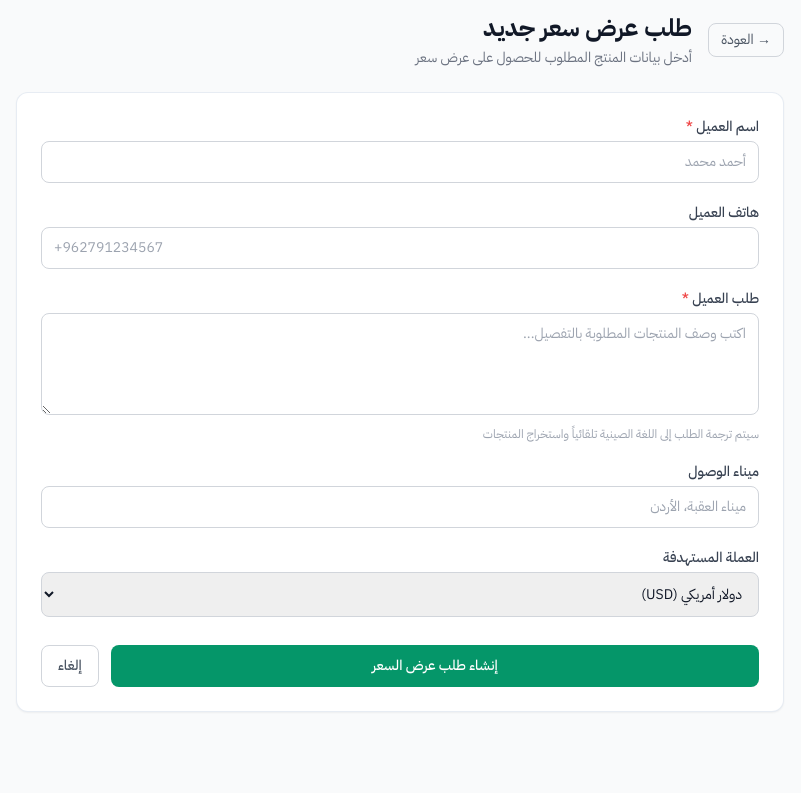
Test: RFQCreatePage › shows a validation error and does not submit when client name is empty
Type "أحتاج 100 كشاف إضاءة صناعي" into the text box with placeholder "اكتب وصف المنتجات المطلوبة بالتفصيل..." at (400, 364), box [41,313,759,415]
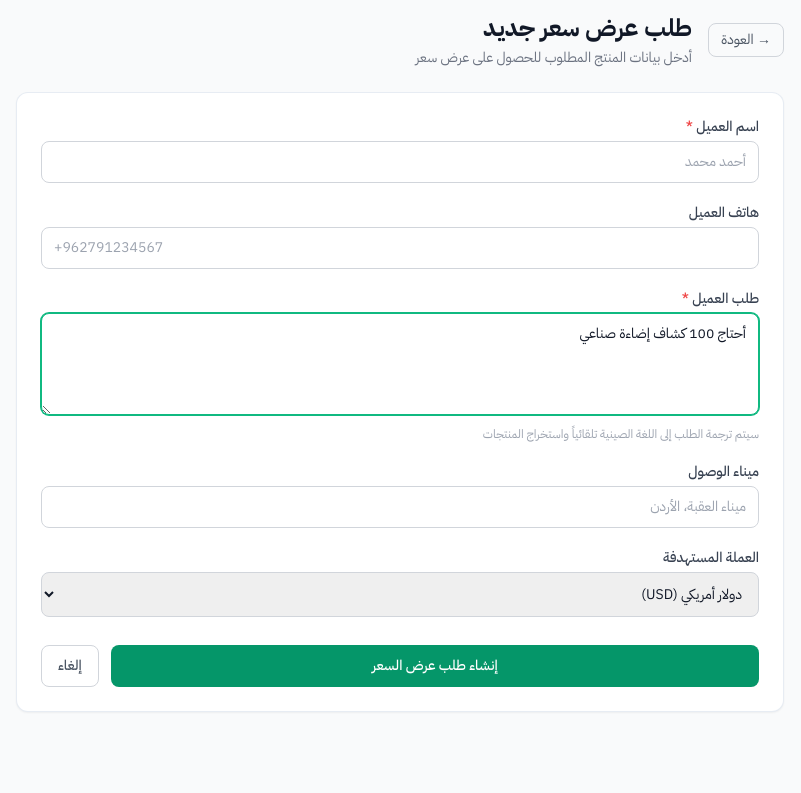
Click the button "إنشاء طلب عرض السعر" at (435, 666), box [111,645,759,687]
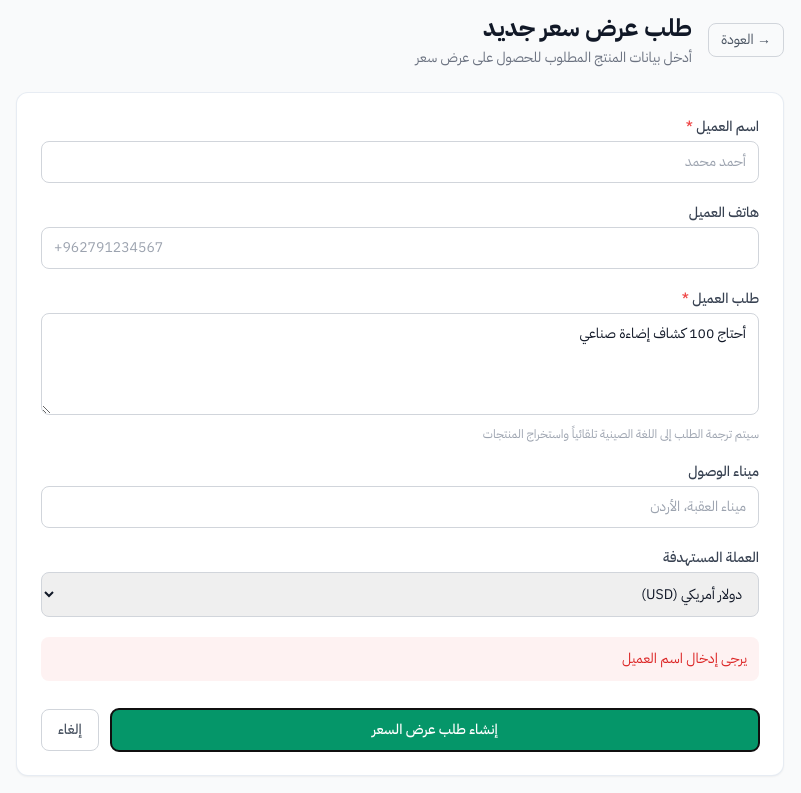
Result: the text "يرجى إدخال اسم العميل" is shown at [41,637,759,681]
